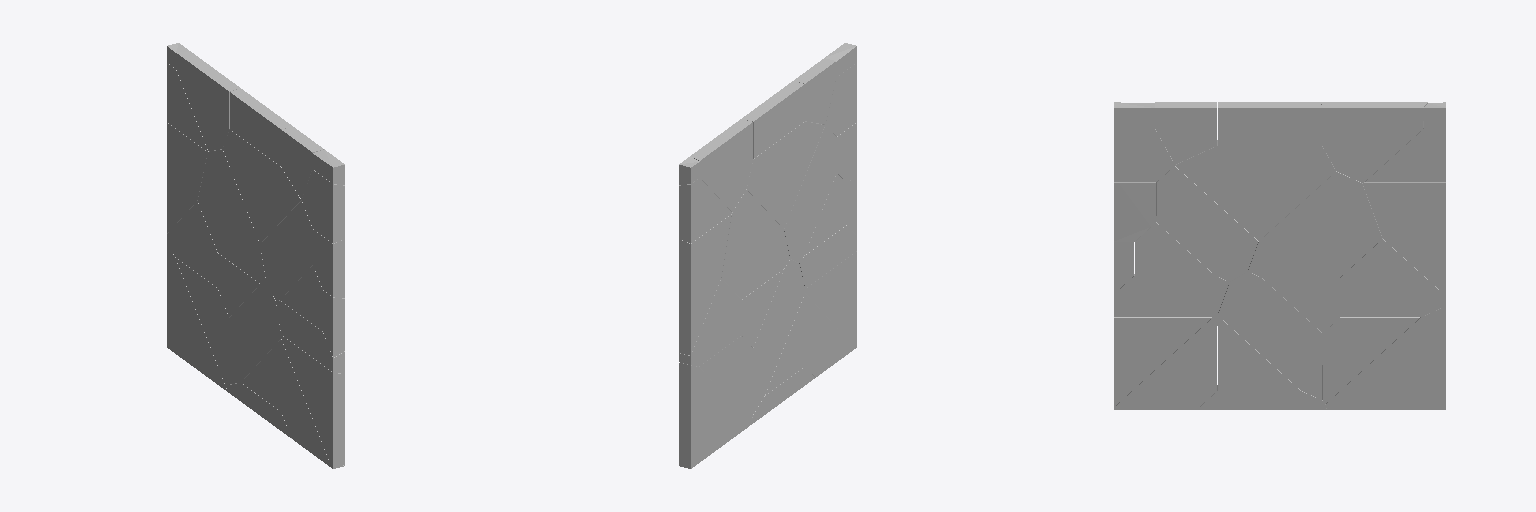
Rendered from glass.obj.
The picture shows the model from 3 angles: view 1: azimuth 30°, elevation 25°; view 2: azimuth 150°, elevation 25°; view 3: azimuth 270°, elevation 25°; orthographic projection.
Visible parts, largest first — view 1: Cube_cell.011_Mesh.011, Cube_cell.004_Mesh.004, Cube_cell.021_Mesh.021, Cube_cell_Mesh, Cube_cell.020_Mesh.020, Cube_cell.019_Mesh.019, Cube_cell.006_Mesh.006, Cube_cell.023_Mesh.023, Cube_cell.008_Mesh.008, Cube_cell.003_Mesh.003, Cube_cell.018_Mesh.018, Cube_cell.016_Mesh.016 (+11 smaller); view 2: Cube_cell.011_Mesh.011, Cube_cell.019_Mesh.019, Cube_cell.004_Mesh.004, Cube_cell.023_Mesh.023, Cube_cell_Mesh, Cube_cell.020_Mesh.020, Cube_cell.006_Mesh.006, Cube_cell.021_Mesh.021, Cube_cell.003_Mesh.003, Cube_cell.008_Mesh.008, Cube_cell.018_Mesh.018, Cube_cell.016_Mesh.016 (+10 smaller); view 3: Cube_cell.004_Mesh.004, Cube_cell.011_Mesh.011, Cube_cell.019_Mesh.019, Cube_cell.007_Mesh.007, Cube_cell.006_Mesh.006, Cube_cell.020_Mesh.020, Cube_cell.023_Mesh.023, Cube_cell.018_Mesh.018, Cube_cell.016_Mesh.016, Cube_cell.003_Mesh.003, Cube_cell.021_Mesh.021, Cube_cell.014_Mesh.014 (+12 smaller).
Boxes of the visible parts, <box> form: Cube_cell.011_Mesh.011: <box>198,149,265,283</box>; Cube_cell.004_Mesh.004: <box>223,130,301,243</box>; Cube_cell.021_Mesh.021: <box>281,335,344,468</box>; Cube_cell_Mesh: <box>229,283,280,383</box>; Cube_cell.020_Mesh.020: <box>176,51,239,150</box>; Cube_cell.019_Mesh.019: <box>167,245,226,390</box>; Cube_cell.006_Mesh.006: <box>260,201,312,300</box>; Cube_cell.023_Mesh.023: <box>167,123,207,233</box>; Cube_cell.008_Mesh.008: <box>175,257,229,387</box>; Cube_cell.003_Mesh.003: <box>230,88,292,165</box>; Cube_cell.018_Mesh.018: <box>167,201,217,287</box>; Cube_cell.016_Mesh.016: <box>281,339,344,467</box>; Cube_cell.011_Mesh.011: <box>721,189,789,299</box>; Cube_cell.019_Mesh.019: <box>679,363,750,468</box>; Cube_cell.004_Mesh.004: <box>747,121,824,228</box>; Cube_cell.023_Mesh.023: <box>679,214,731,355</box>; Cube_cell_Mesh: <box>753,259,804,413</box>; Cube_cell.020_Mesh.020: <box>691,119,752,211</box>; Cube_cell.006_Mesh.006: <box>784,124,836,262</box>; Cube_cell.021_Mesh.021: <box>805,251,856,347</box>; Cube_cell.003_Mesh.003: <box>742,81,804,158</box>; Cube_cell.008_Mesh.008: <box>697,336,752,422</box>; Cube_cell.018_Mesh.018: <box>679,278,741,366</box>; Cube_cell.016_Mesh.016: <box>805,294,855,377</box>; Cube_cell.004_Mesh.004: <box>1175,140,1335,240</box>; Cube_cell.011_Mesh.011: <box>1248,171,1382,277</box>; Cube_cell.019_Mesh.019: <box>1326,306,1445,409</box>; Cube_cell.007_Mesh.007: <box>1218,271,1322,399</box>; Cube_cell.006_Mesh.006: <box>1156,166,1258,281</box>; Cube_cell.020_Mesh.020: <box>1321,102,1427,182</box>; Cube_cell.023_Mesh.023: <box>1363,182,1445,295</box>; Cube_cell.018_Mesh.018: <box>1340,239,1445,316</box>; Cube_cell.016_Mesh.016: <box>1114,316,1216,409</box>; Cube_cell.003_Mesh.003: <box>1218,102,1321,145</box>; Cube_cell.021_Mesh.021: <box>1114,317,1211,406</box>; Cube_cell.014_Mesh.014: <box>1114,274,1229,316</box>.
Bounding box in the file's own units: 0.1738 × 4.18 × 4.18.